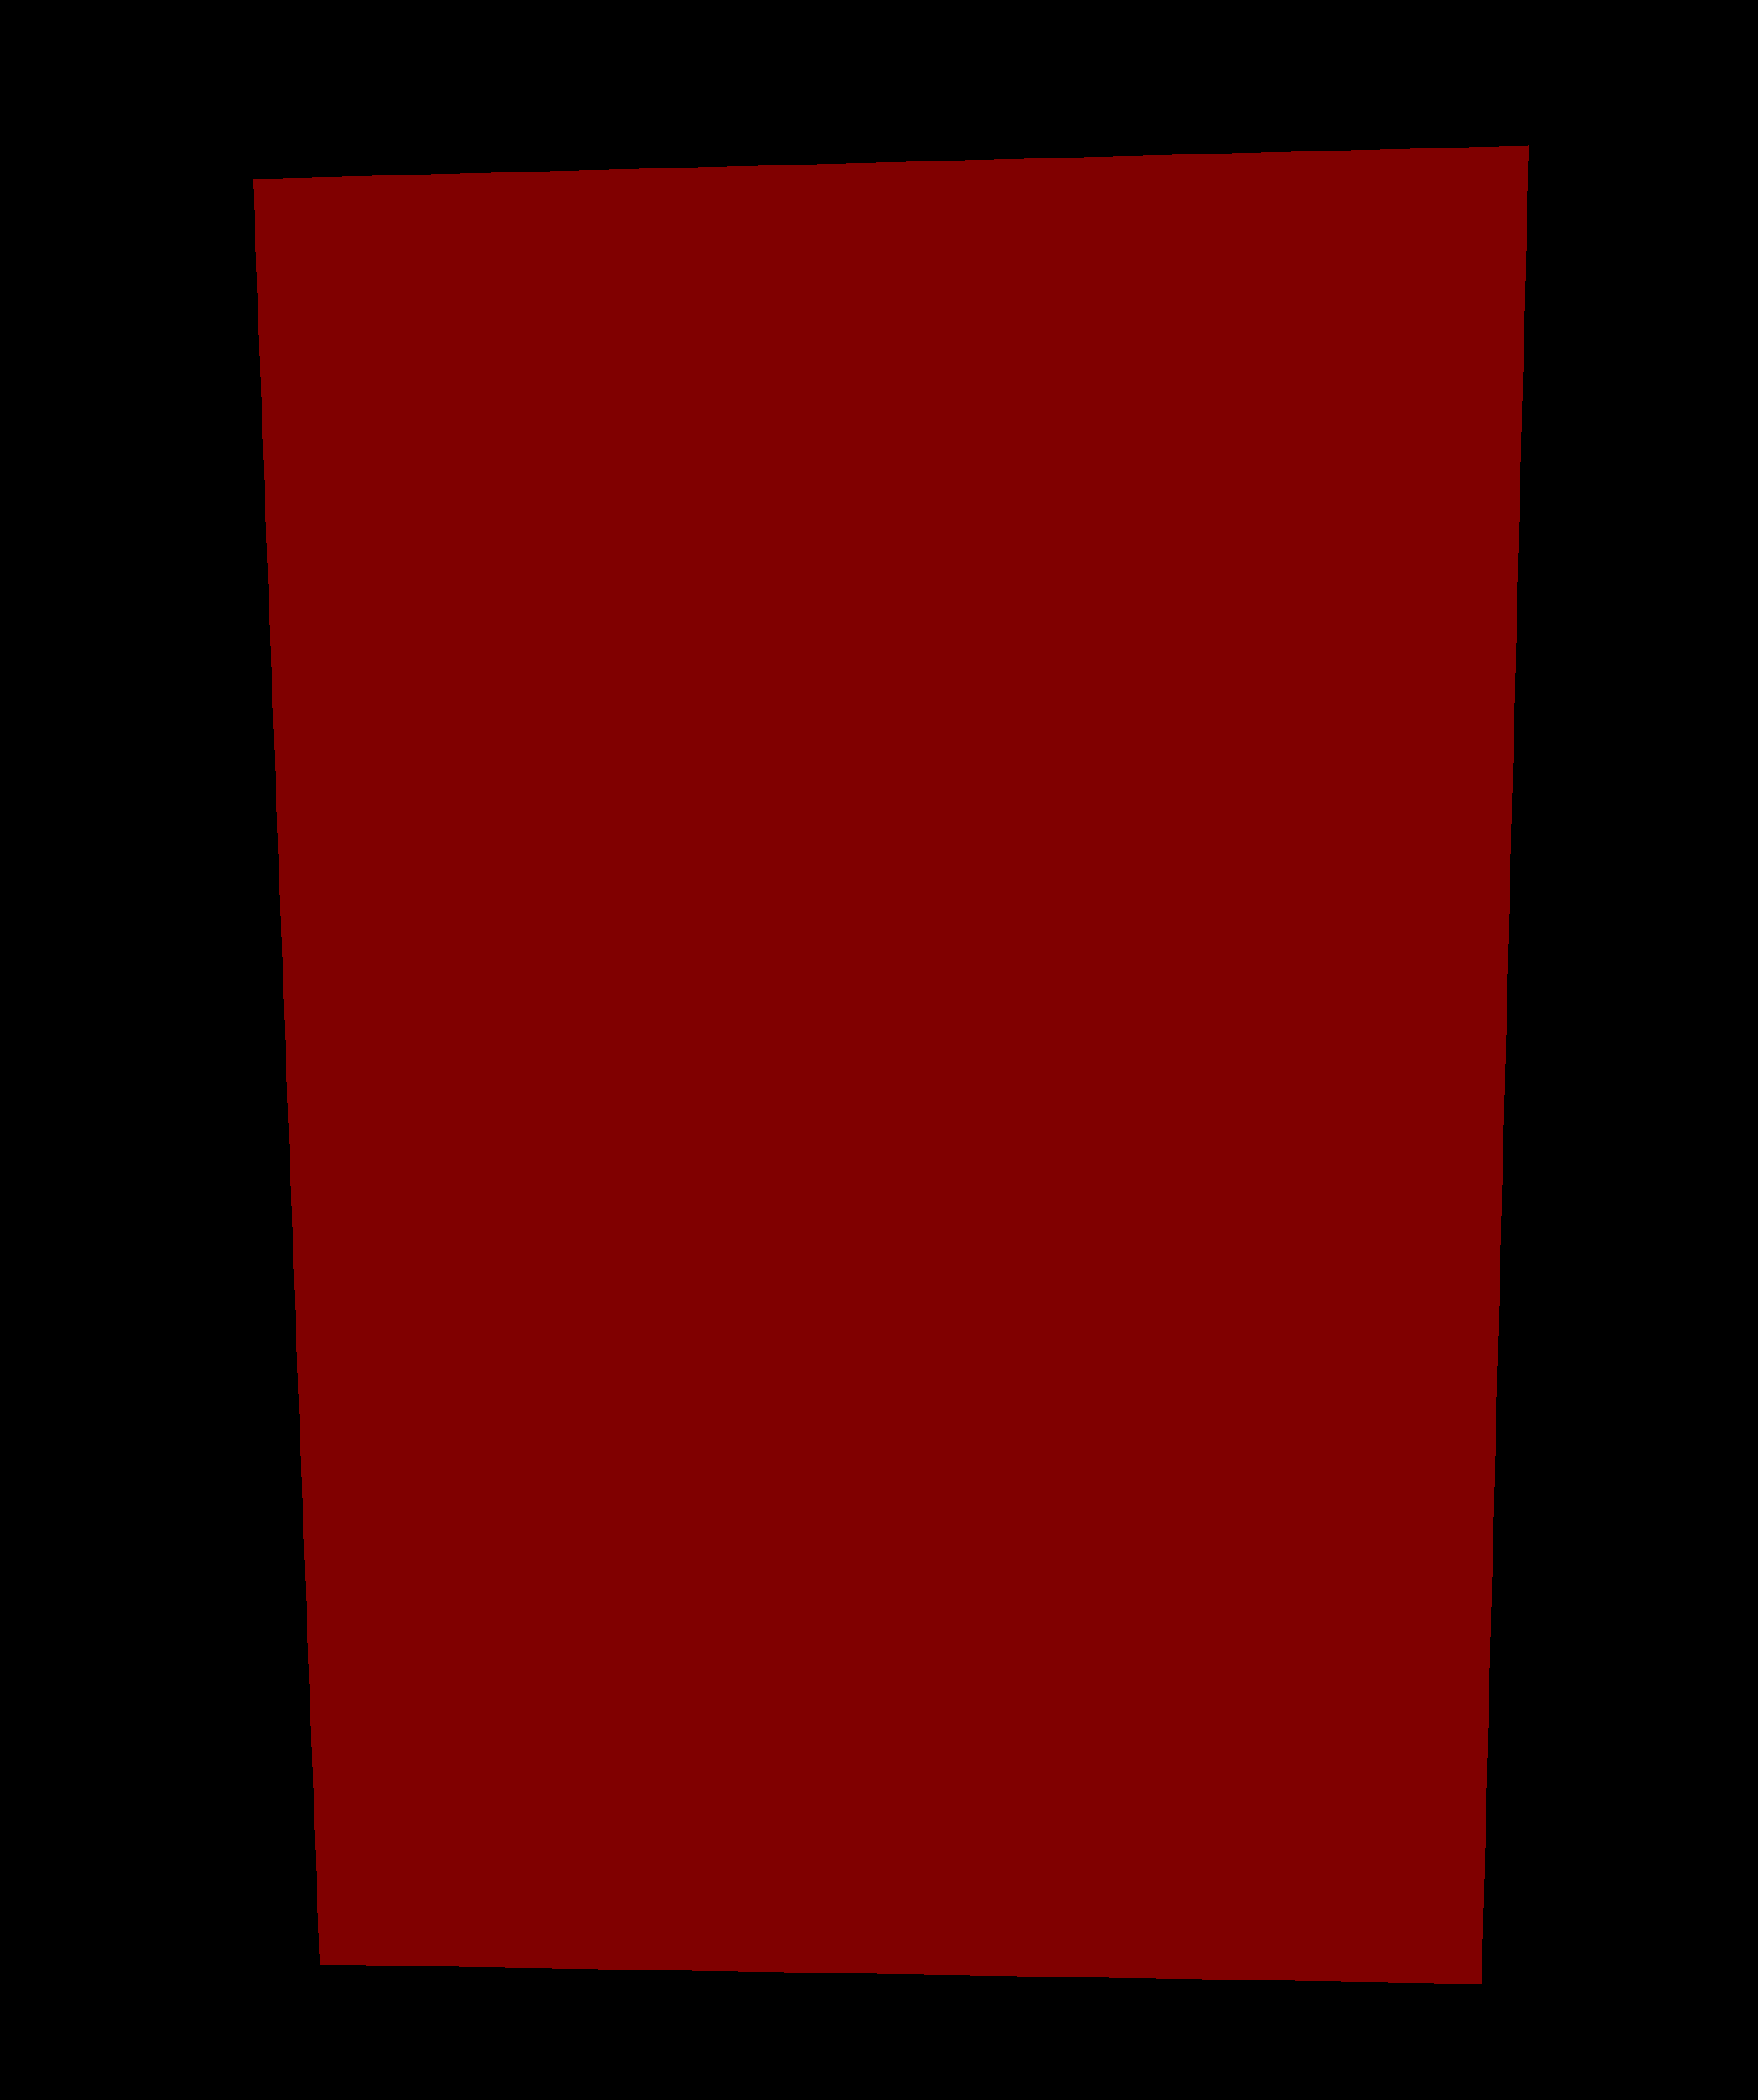sign: (253, 145, 1528, 1983)
